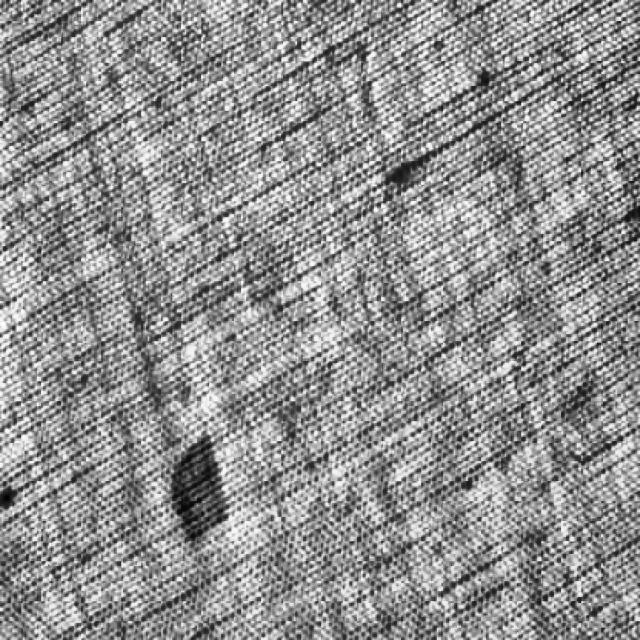oil_spot: (161, 422, 241, 552)
